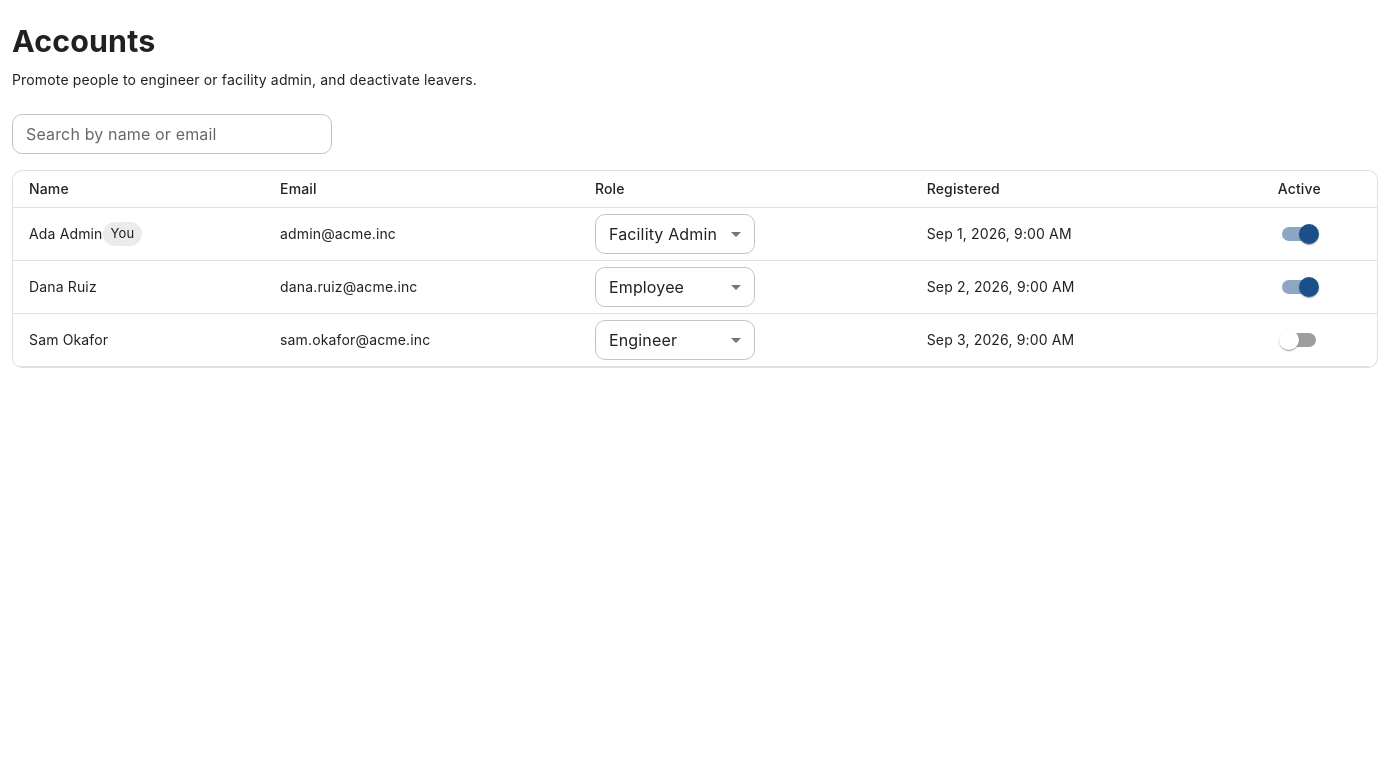
Test: changing a role › patches the account and confirms
This screenshot has width=1378, height=768.
Expected: the text "Dana Ruiz" is shown, [29,278,97,295]
Click the dropdown labelled "Employee" at (647, 287), box [609,277,684,297]
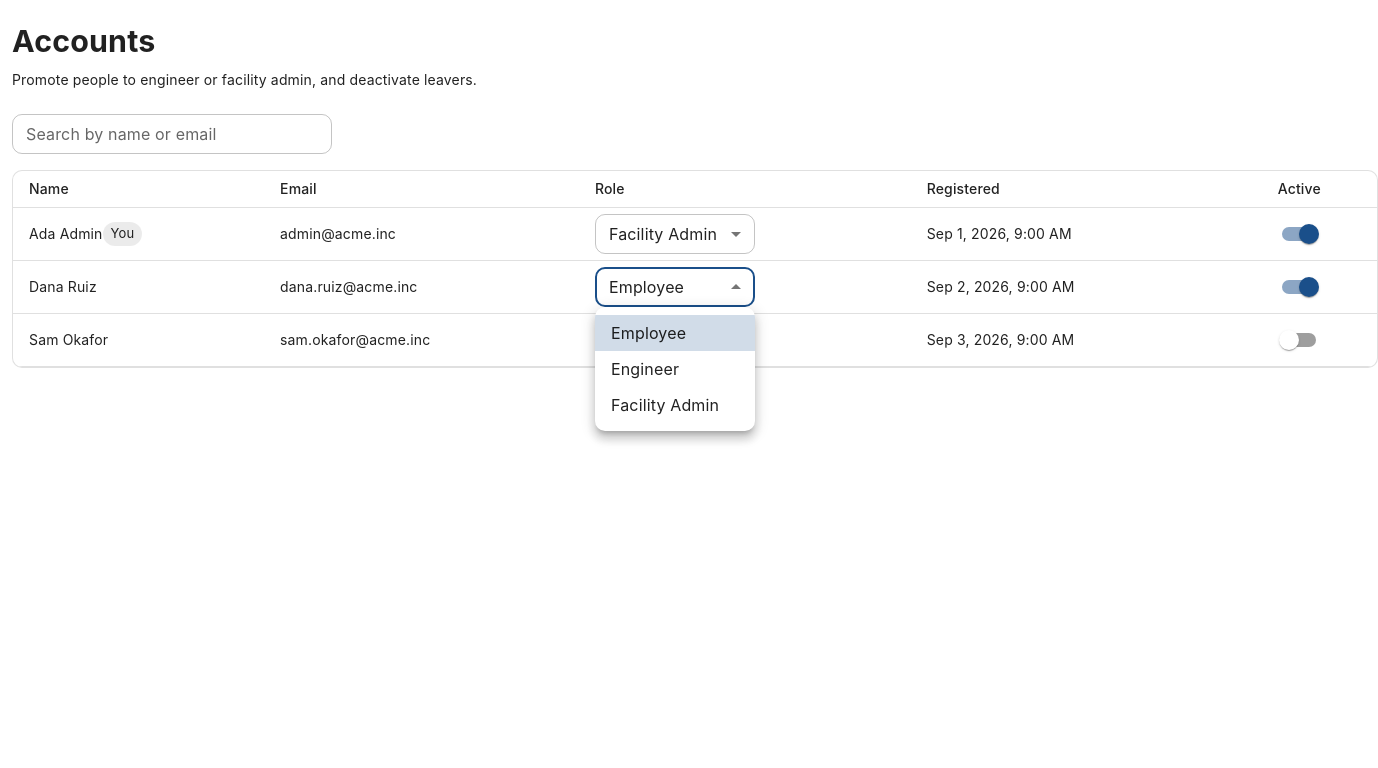
Click the option "Engineer" at (645, 369), box [611,359,679,379]
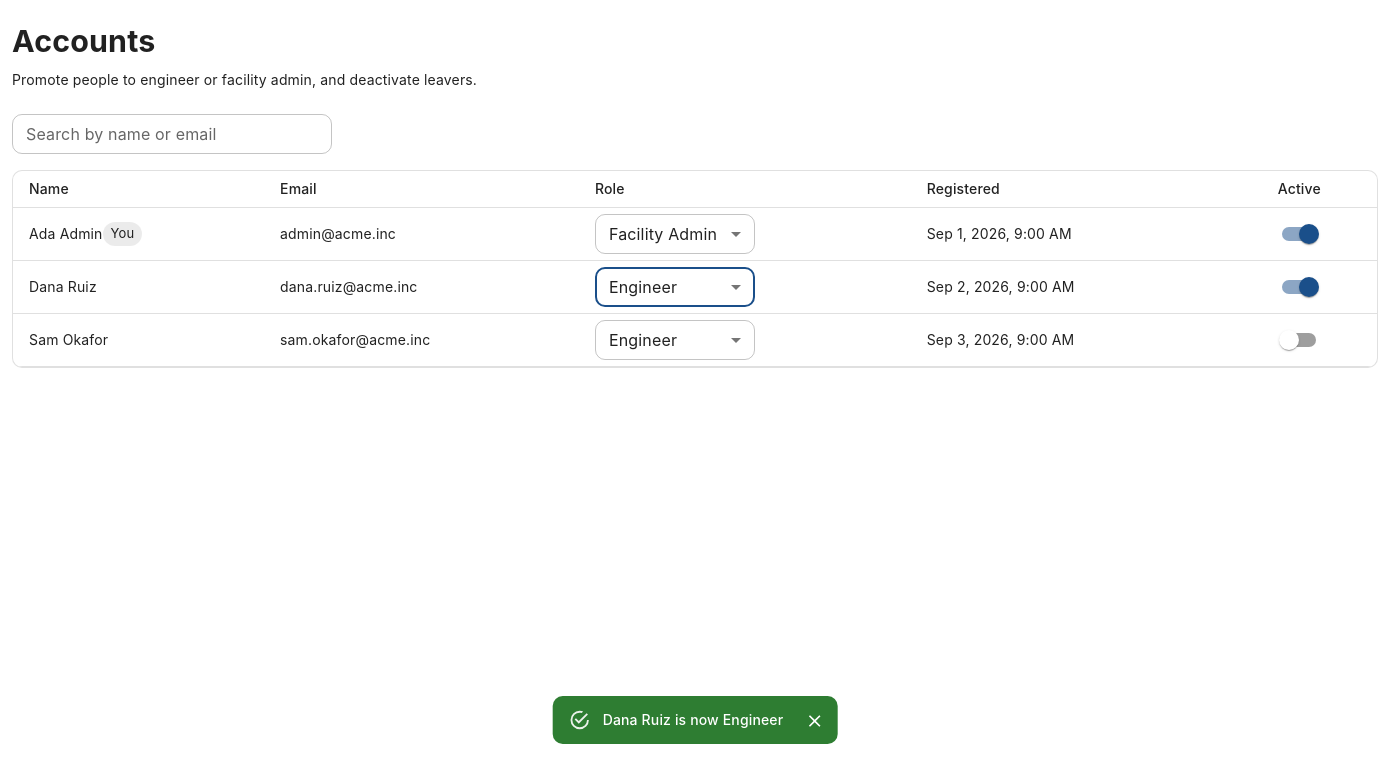
Now the text "Dana Ruiz is now Engineer" is shown, box [603,711,783,728]
